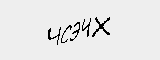С: (59, 24, 73, 46)
Х: (91, 16, 113, 38)
Ч: (44, 27, 60, 46), (80, 18, 92, 40)
Э: (68, 20, 81, 45)
